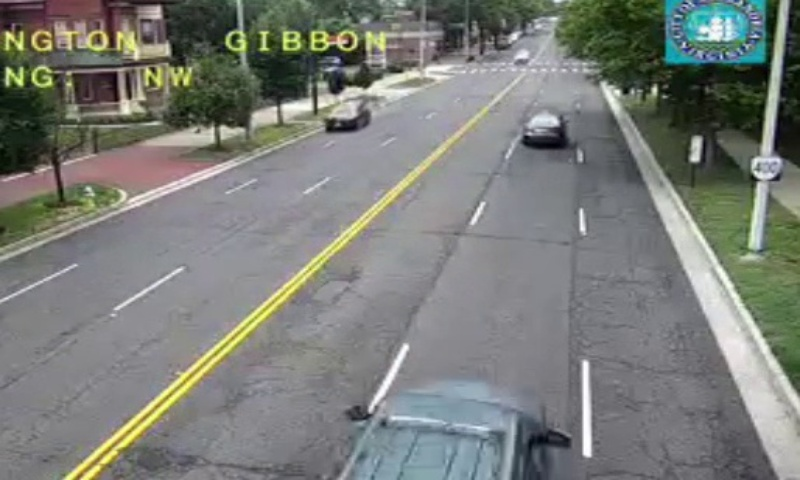car: (522, 115, 564, 145)
